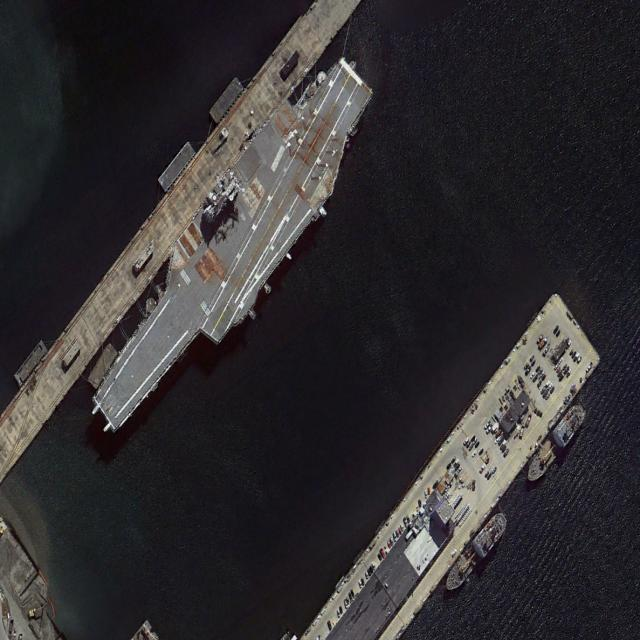Aircraft Carrier: (70, 29, 389, 467)
Other Ship: (439, 504, 513, 604), (522, 395, 590, 493)
